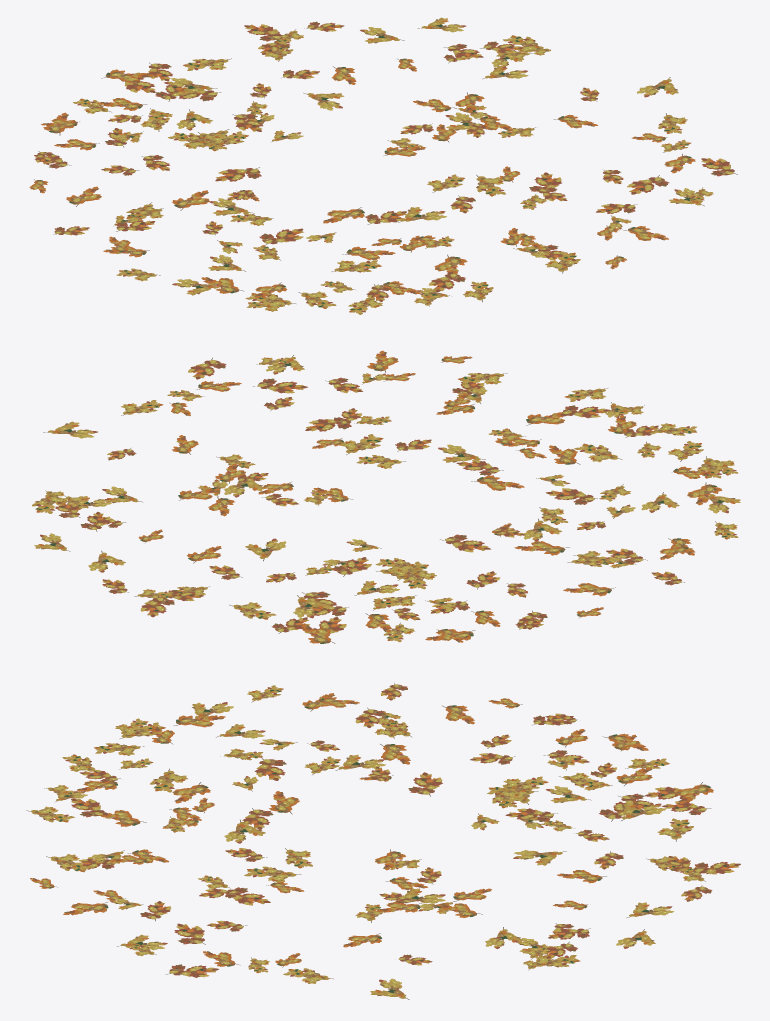
File: poirier_adulte_b.fbx
3 views of the same model, one above another, from view 1: azimuth 30°, elevation 25°; view 2: azimuth 150°, elevation 25°; view 3: azimuth 270°, elevation 25° (orthographic). The views are drawn at different scales.
Parts seen in each view (by area): view 1: poirier_adulte_b_feuilles_sol; view 2: poirier_adulte_b_feuilles_sol; view 3: poirier_adulte_b_feuilles_sol.
Boxes of the visible parts, x1=… form: poirier_adulte_b_feuilles_sol: x1=29, y1=17, x2=737, y2=314; poirier_adulte_b_feuilles_sol: x1=32, y1=350, x2=740, y2=643; poirier_adulte_b_feuilles_sol: x1=26, y1=683, x2=740, y2=999.
Size of what is drawn, in the model's own units: 5.62 by 0.00596 by 5.39.
